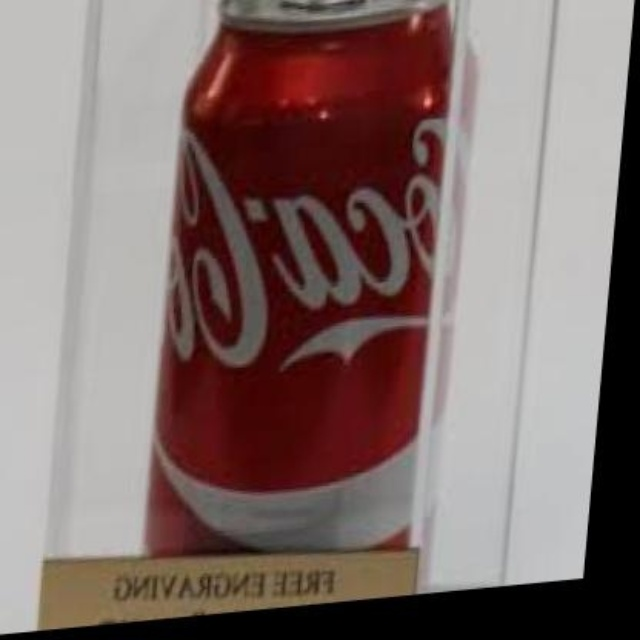trash: (148, 0, 451, 555)
